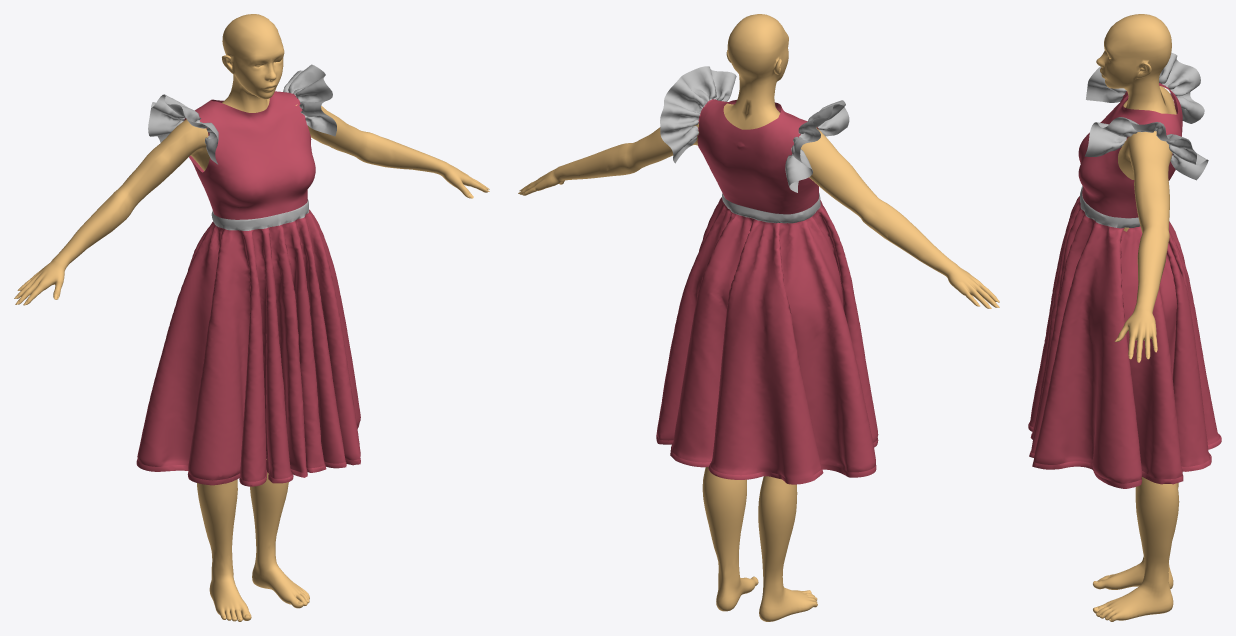
The model's file is dress4.glb.
3 renders of one model, left to right at view 1: azimuth 30°, elevation 25°; view 2: azimuth 150°, elevation 25°; view 3: azimuth 270°, elevation 25°, orthographic.
Visible parts, largest first — view 1: PinkDrees#14 (OBJ), Body; view 2: PinkDrees#14 (OBJ), Body; view 3: PinkDrees#14 (OBJ), Body.
Part boxes in pixels (x1=…): PinkDrees#14 (OBJ): x1=136, y1=64, x2=360, y2=486; Body: x1=16, y1=14, x2=489, y2=621; PinkDrees#14 (OBJ): x1=656, y1=66, x2=878, y2=484; Body: x1=519, y1=14, x2=996, y2=621; PinkDrees#14 (OBJ): x1=1028, y1=52, x2=1221, y2=488; Body: x1=1093, y1=14, x2=1179, y2=621.
Size of the model in its own units: 1.58 by 1.85 by 0.5546.
